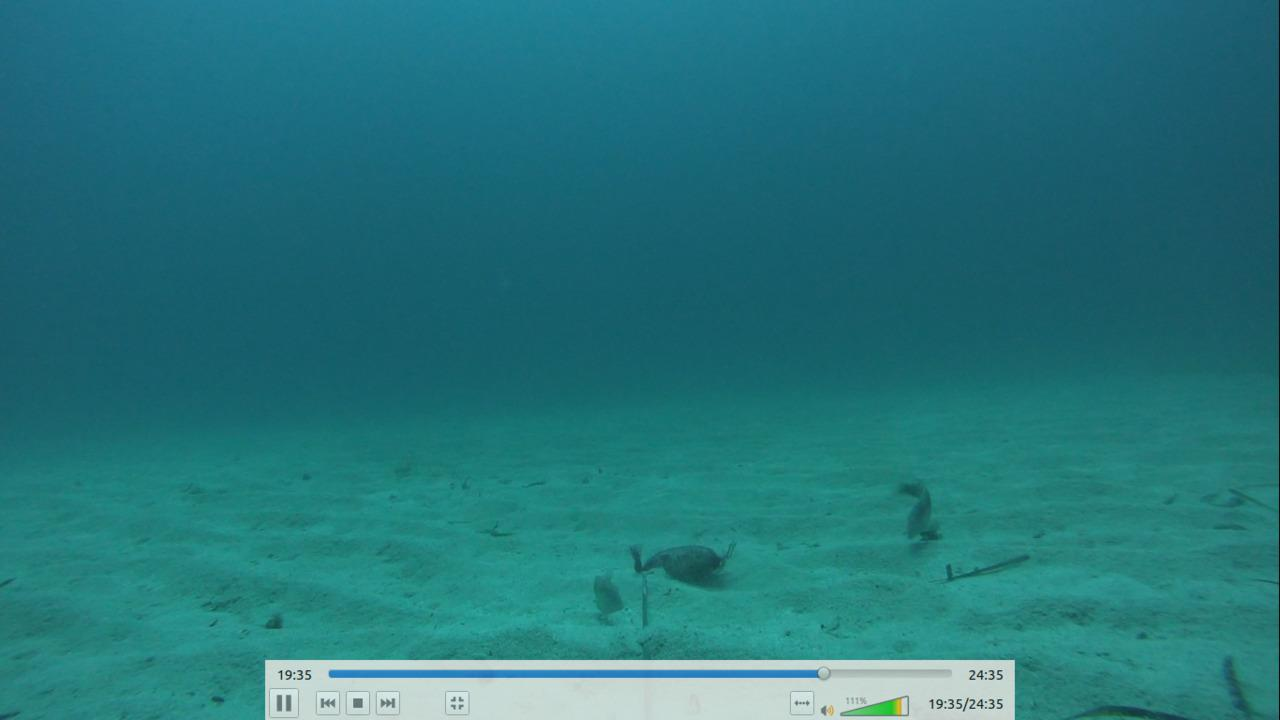raor: (885, 468, 937, 542), (586, 569, 628, 619)
